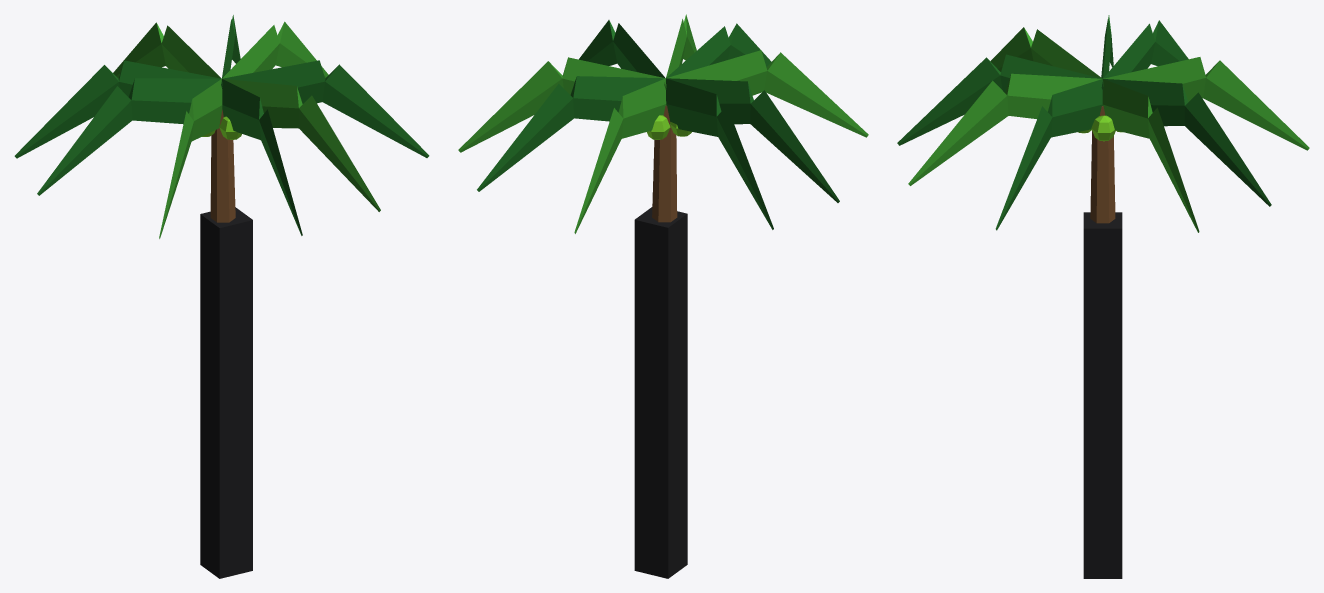
The model's file is env_palm.fbx.
The picture shows the model from 3 angles, left to right: view 1: azimuth 30°, elevation 25°; view 2: azimuth 150°, elevation 25°; view 3: azimuth 270°, elevation 25°; orthographic projection.
Visible parts, largest first — view 1: env_palm_geo_LOD0, COL_env_palm; view 2: env_palm_geo_LOD0, COL_env_palm; view 3: env_palm_geo_LOD0, COL_env_palm.
Boxes of the visible parts, <box> form: env_palm_geo_LOD0: <box>14,15,429,238</box>; COL_env_palm: <box>200,207,252,578</box>; env_palm_geo_LOD0: <box>458,14,868,233</box>; COL_env_palm: <box>634,207,687,578</box>; env_palm_geo_LOD0: <box>897,15,1309,232</box>; COL_env_palm: <box>1083,212,1122,578</box>.
Size of what is drawn, in the model's own units: 6.06 by 8.72 by 6.41.
